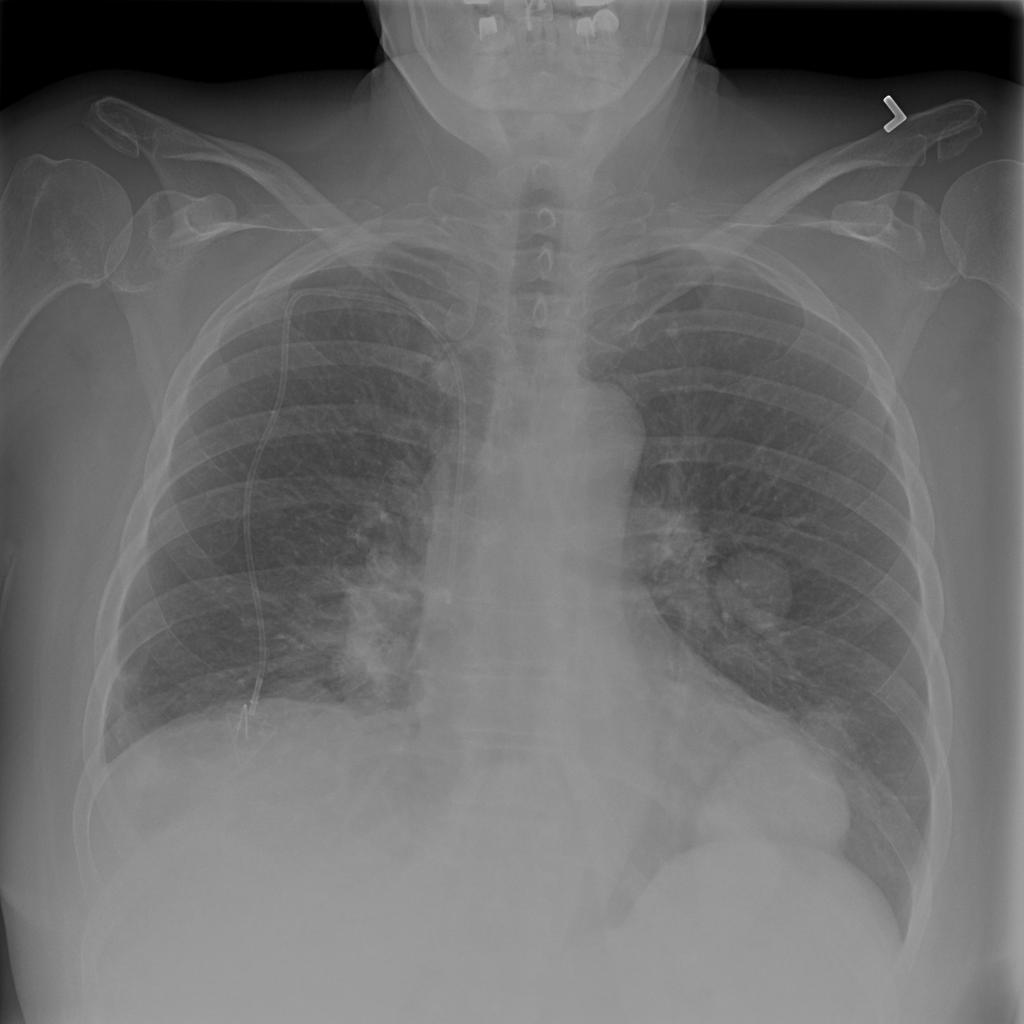nodule: (723, 730, 874, 869), (700, 536, 811, 642)
